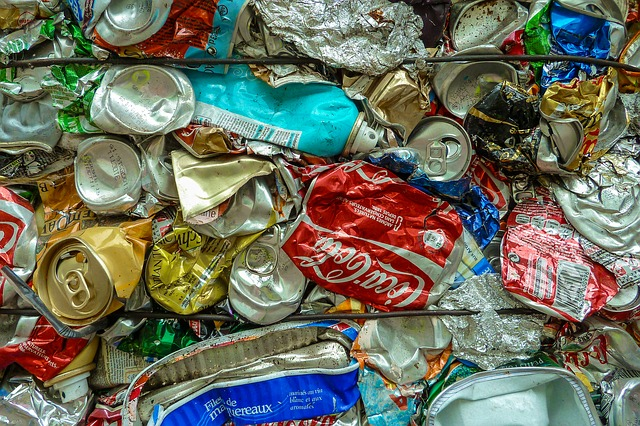can: (282, 160, 464, 308), (489, 189, 615, 327), (22, 218, 146, 332), (89, 62, 199, 145), (61, 133, 159, 219), (411, 113, 483, 187)
